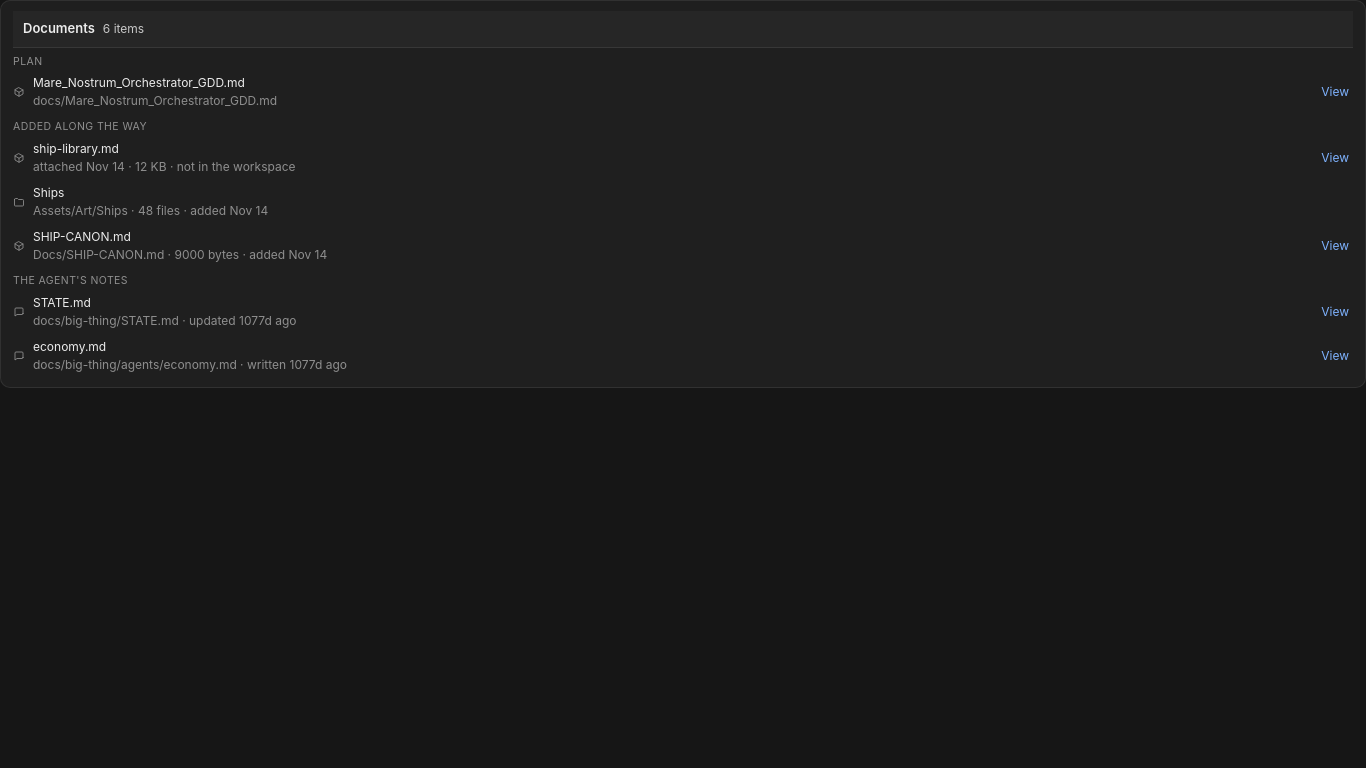
Test: the documents card › opens the plan document from the workspace and renders it
Click the button "View" in the row of "docs/Mare_Nostrum_Orchestrator_GDD.md" at point(1335, 92), box [1317, 83, 1353, 101]
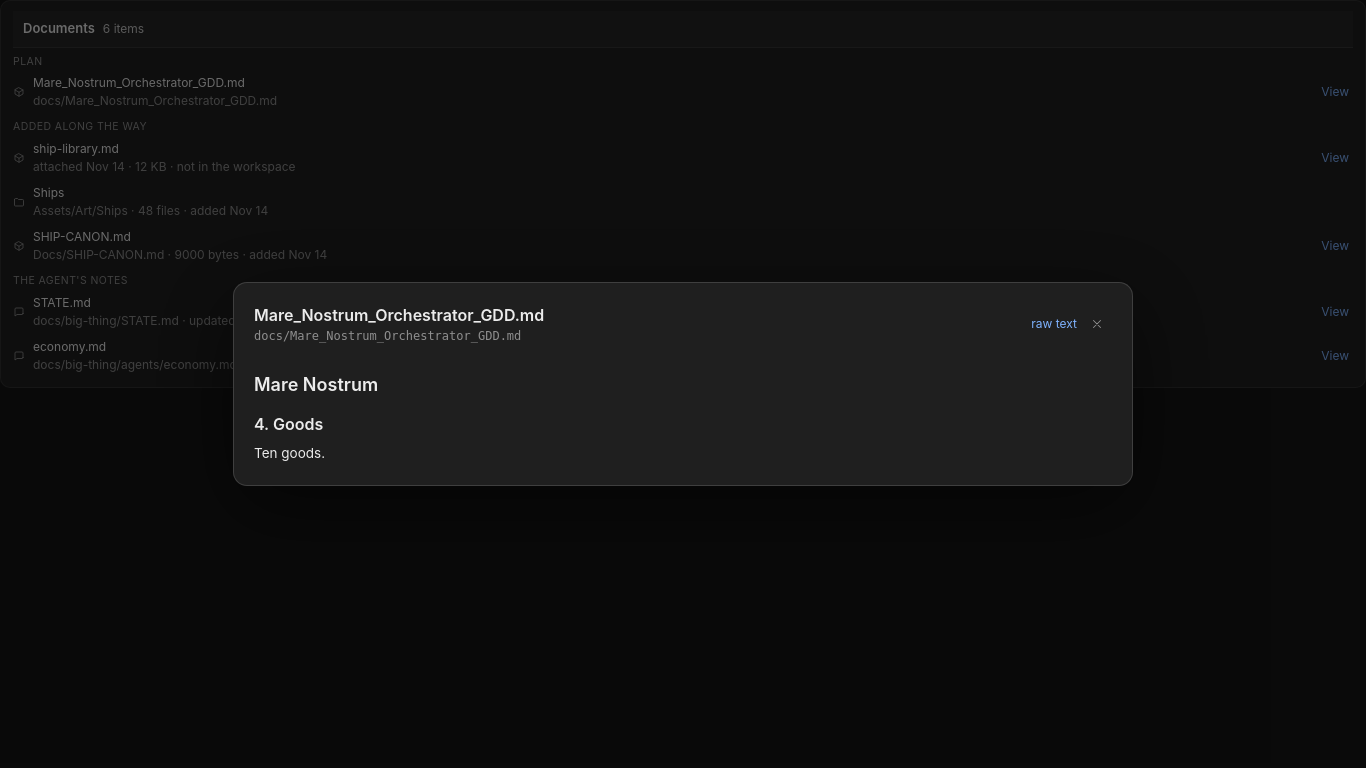
Expected: the heading "4. Goods" is shown, [254, 414, 323, 434]
Raw text is a click away, and back.
Click the button "raw text" at point(1054, 324), box [1027, 309, 1081, 339]
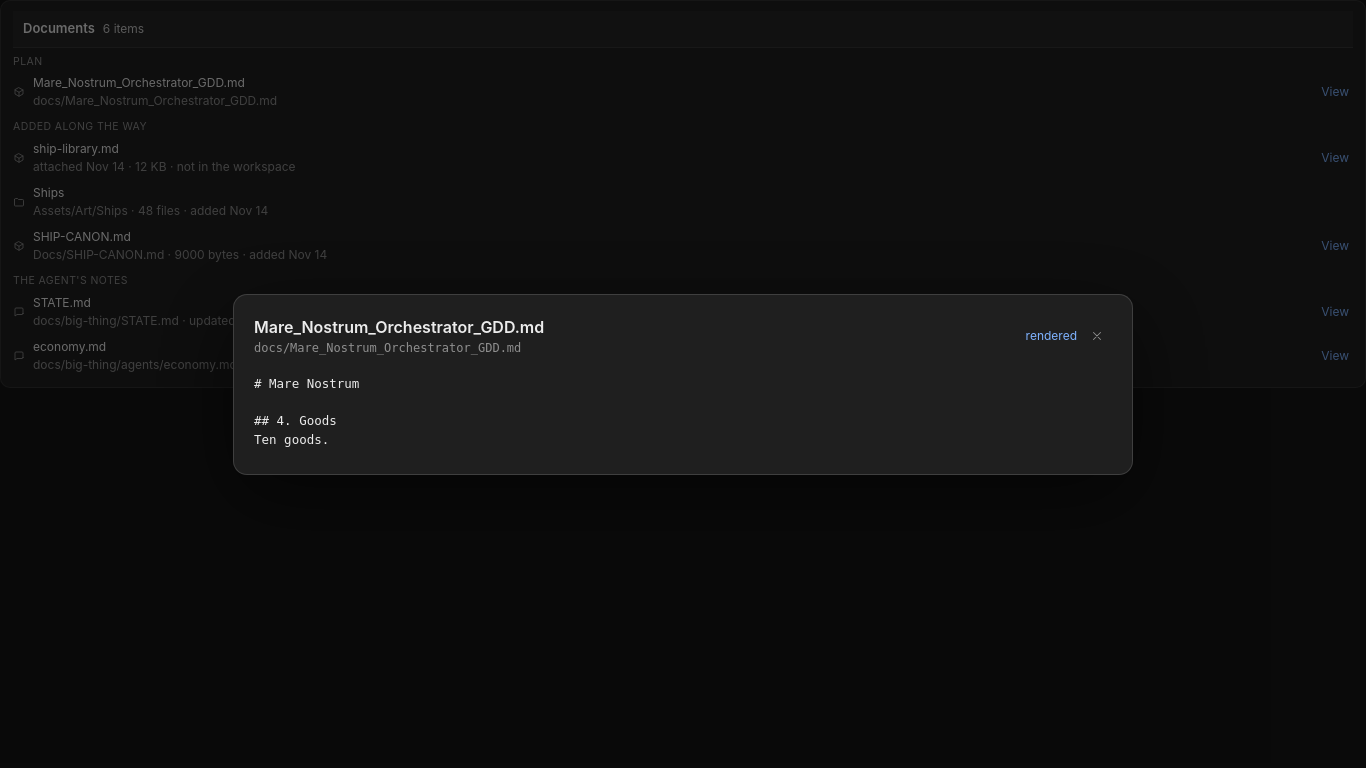
Expected: the text "# Mare Nostrum ## 4. Goods Ten goods." is shown, [254, 376, 359, 447]
Click the button named "Close" at point(1097, 336), box [1082, 320, 1112, 350]
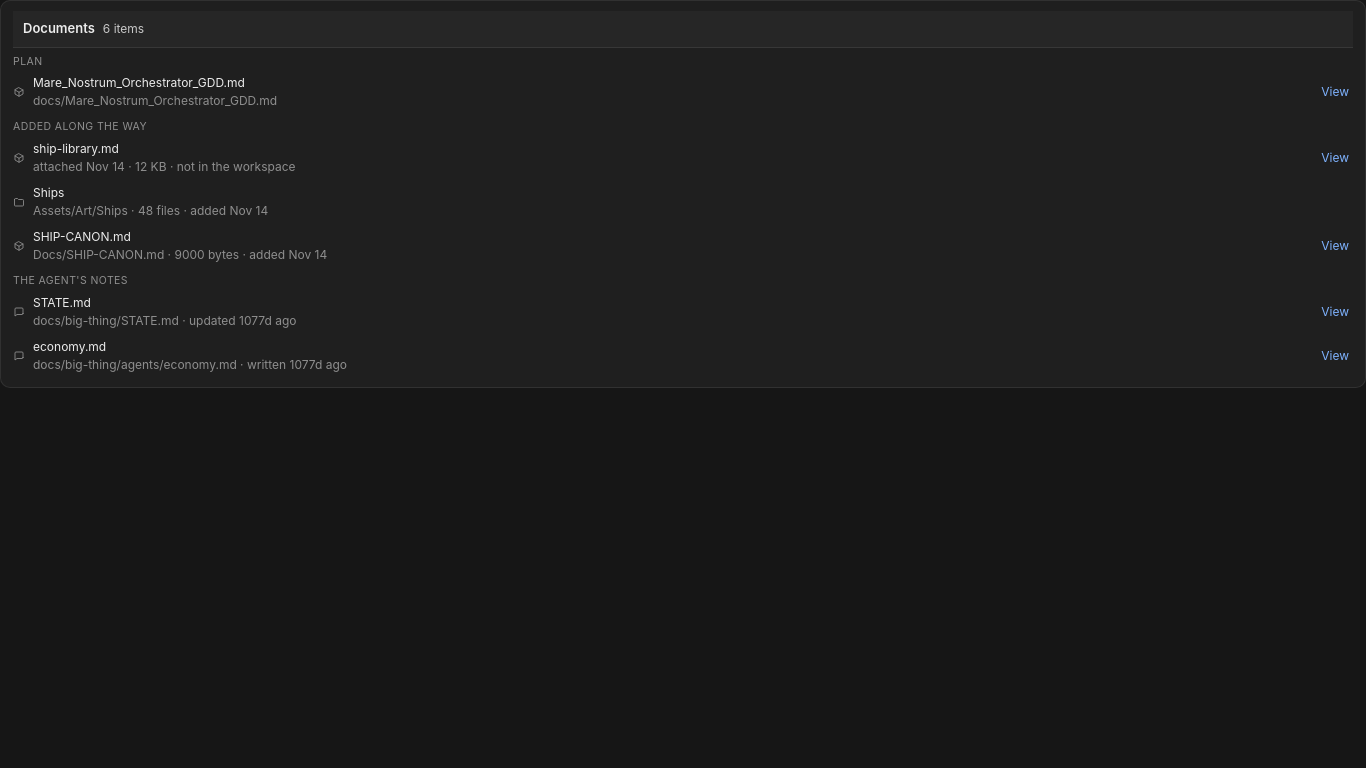
Expected: the dialog is gone
